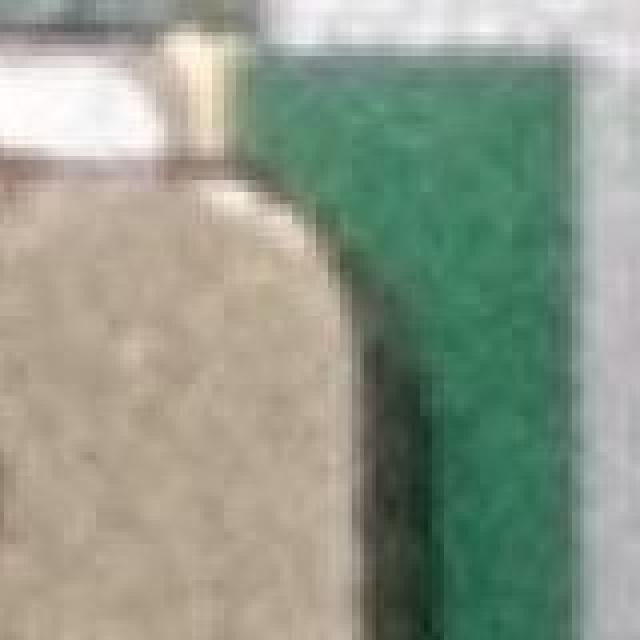inductor: (0, 96, 476, 640)
